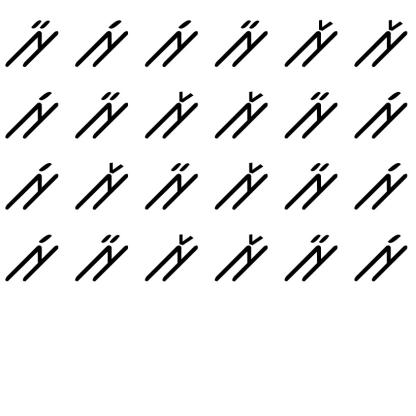wan: (280, 85, 343, 143), (72, 90, 131, 144), (5, 13, 60, 70), (72, 230, 130, 284), (282, 230, 340, 284), (285, 157, 340, 211), (143, 161, 200, 212), (214, 16, 269, 68)
wang: (2, 87, 63, 147), (3, 228, 62, 288), (351, 230, 410, 286), (5, 157, 60, 217), (351, 88, 410, 143), (354, 161, 412, 212), (74, 19, 131, 70), (144, 18, 199, 70)
war: (213, 155, 268, 214), (352, 16, 408, 73), (142, 231, 200, 286), (74, 157, 128, 216), (284, 15, 340, 71), (213, 89, 270, 144), (214, 231, 268, 287), (142, 90, 200, 142)
